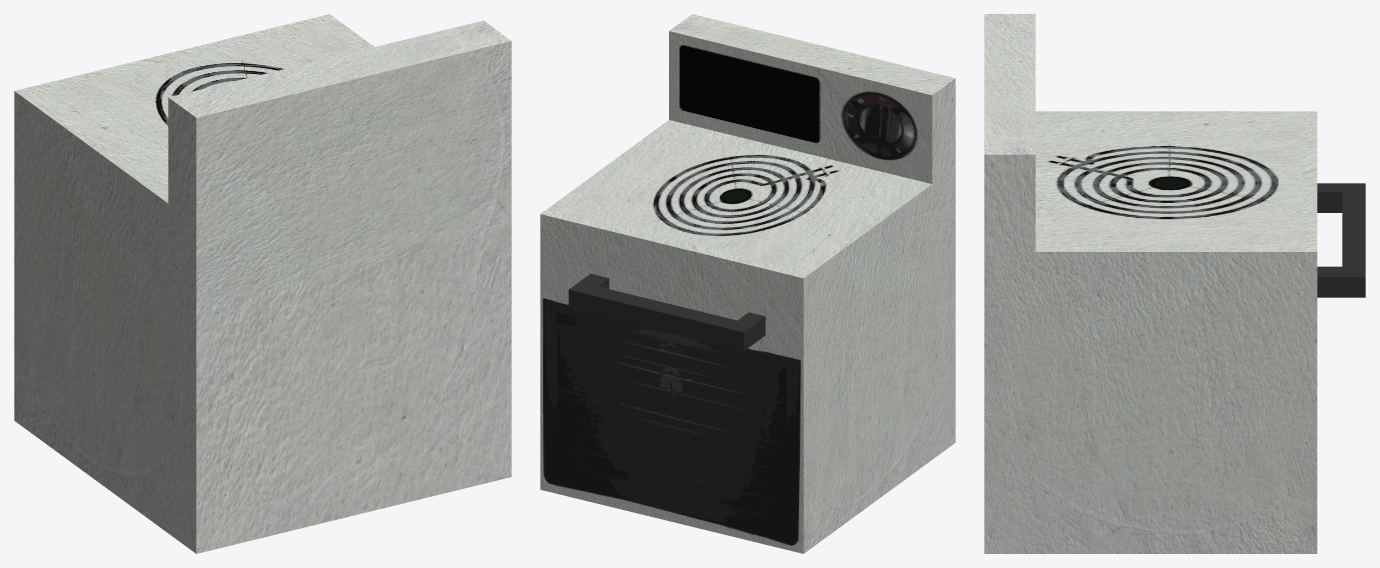
File: BasicStove2.fbx
The picture shows the model from 3 angles, left to right: view 1: azimuth 30°, elevation 25°; view 2: azimuth 150°, elevation 25°; view 3: azimuth 270°, elevation 25°; orthographic projection. The views are drawn at different scales.
Parts seen in each view (by area): view 1: pCube3; view 2: pCube3; view 3: pCube3.
Boxes of the visible parts, x1=… form: pCube3: x1=14, y1=14, x2=511, y2=553; pCube3: x1=540, y1=14, x2=955, y2=553; pCube3: x1=984, y1=14, x2=1365, y2=553.
Bounding box in the file's own units: 1 × 1.32 × 1.14.
